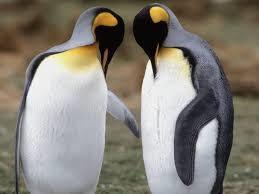king: (9, 2, 130, 191), (131, 2, 245, 194)
